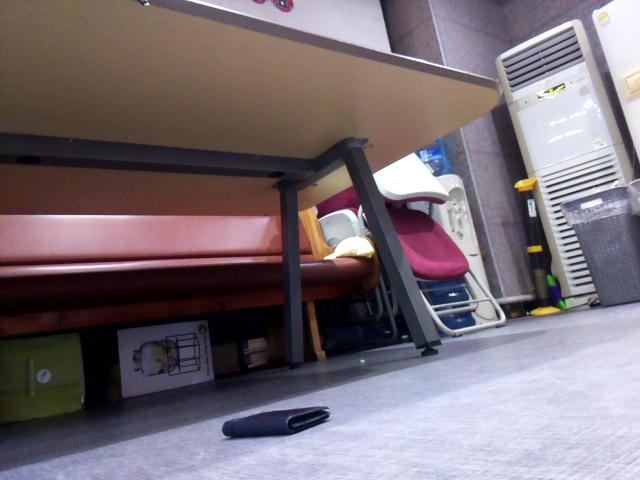wallet: (218, 392, 335, 445)
